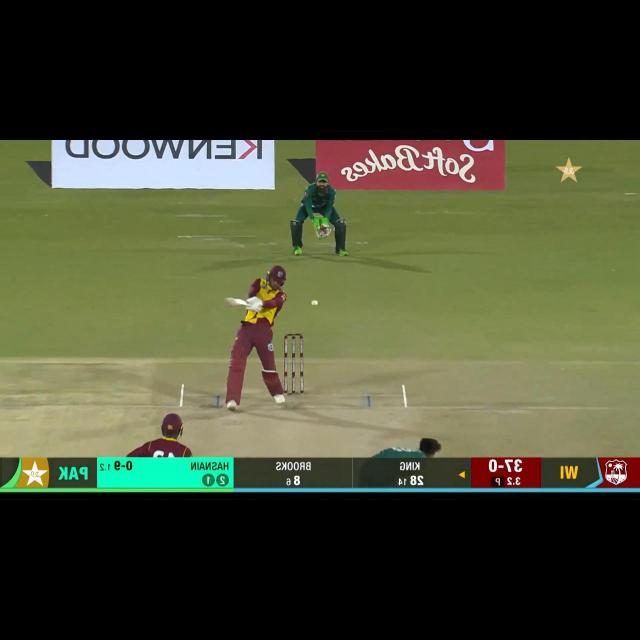bat: (219, 294, 251, 306)
toe: (217, 292, 233, 310)
